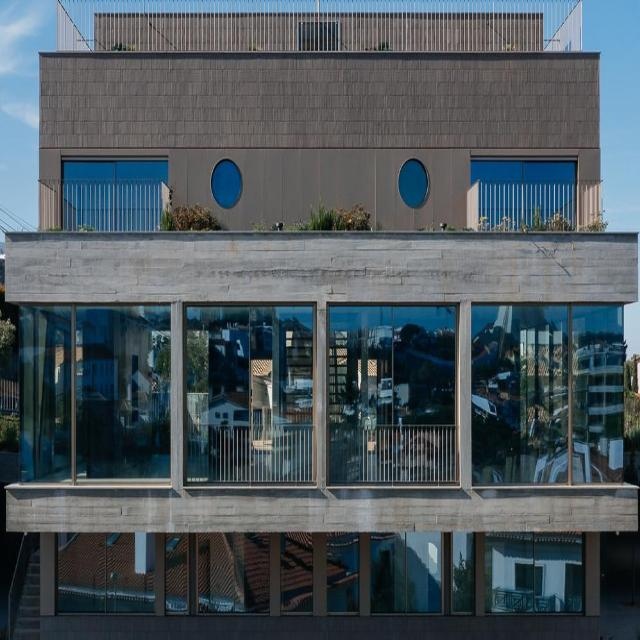railing: (55, 0, 584, 51), (333, 422, 463, 487), (185, 423, 316, 487), (37, 181, 168, 235), (473, 184, 602, 230)
window: (17, 304, 169, 481), (472, 305, 624, 481), (330, 303, 464, 486), (183, 303, 316, 487), (54, 531, 158, 613), (485, 534, 588, 614), (64, 159, 168, 232), (471, 160, 575, 232), (368, 534, 447, 615), (197, 531, 267, 615), (326, 533, 359, 615), (280, 532, 312, 613), (450, 528, 478, 617), (165, 532, 191, 613), (212, 156, 243, 209), (401, 158, 430, 207)
